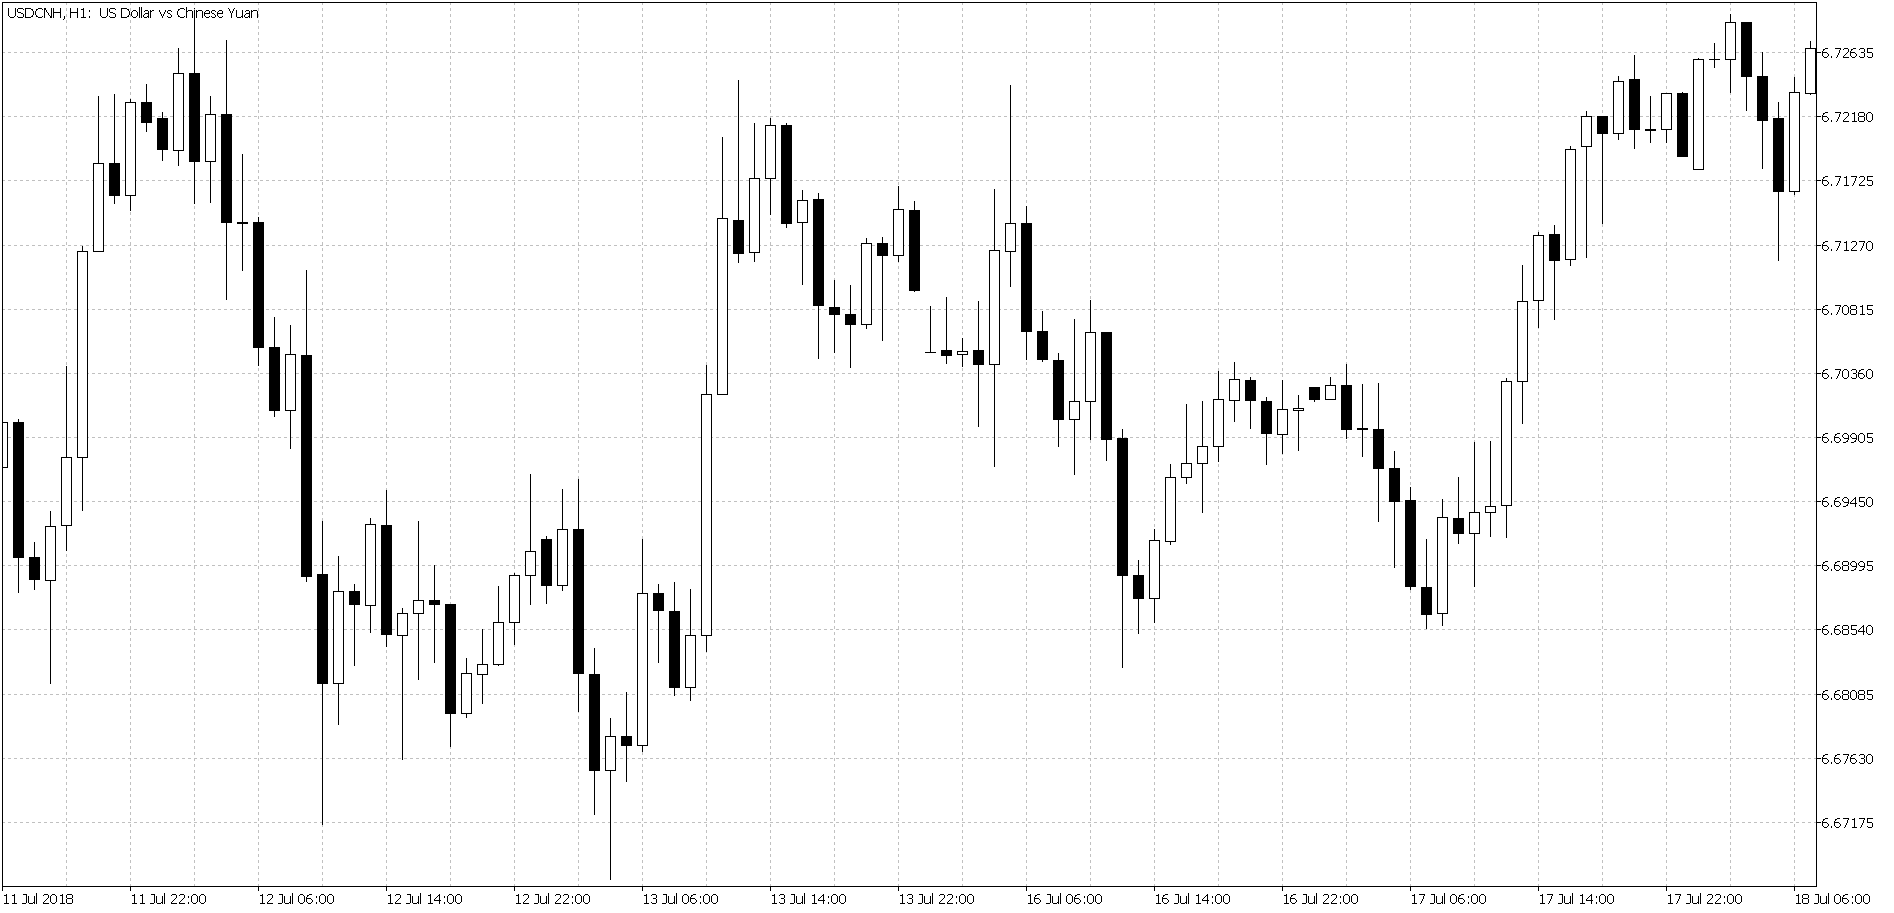3blackcrows: (1018, 198, 1067, 458)
bearishEngulfing: (1722, 14, 1755, 110), (524, 512, 553, 604)
bullishEngulfing: (1419, 498, 1451, 632)
hangingMan: (1594, 115, 1611, 242), (875, 235, 891, 350)
